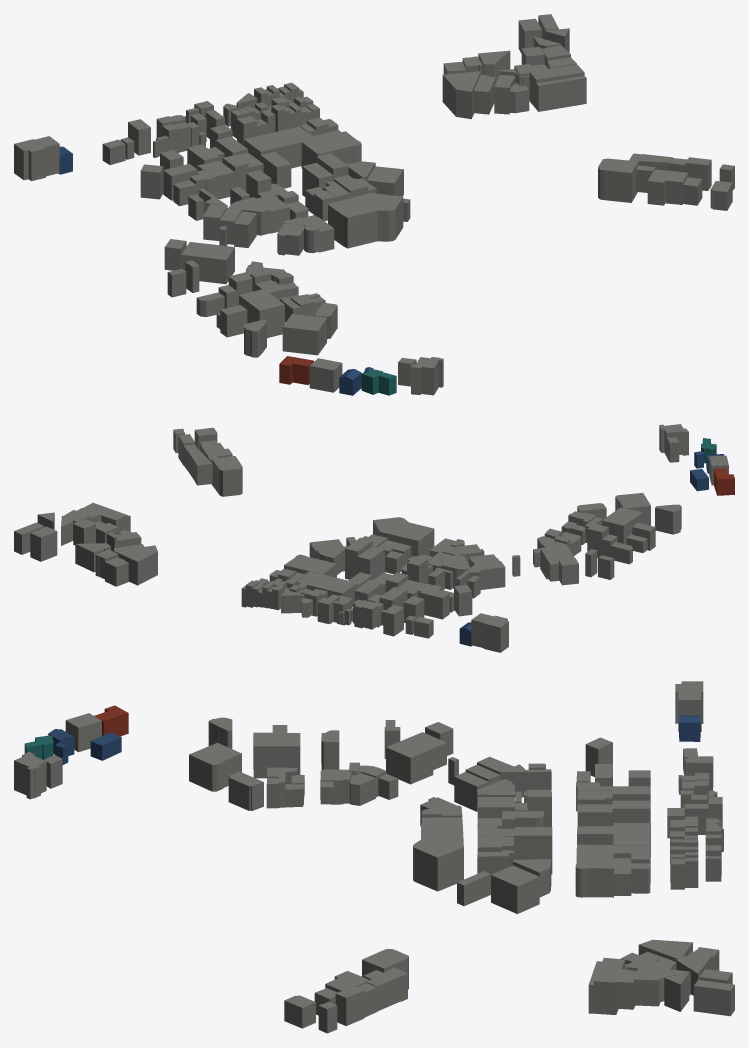
File: near-16-54721-29738.cac9c2c8.glb
3 views of the same model, one above another, from view 1: azimuth 30°, elevation 25°; view 2: azimuth 150°, elevation 25°; view 3: azimuth 270°, elevation 25° (orthographic). The views are drawn at different scales.
Size of the model in its own units: 591 by 66.26 by 609.
